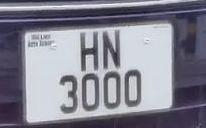0: (78, 67, 103, 118), (121, 65, 146, 113), (100, 66, 124, 115)
3: (55, 70, 81, 119)
H: (75, 27, 103, 77)
N: (100, 25, 126, 75)
